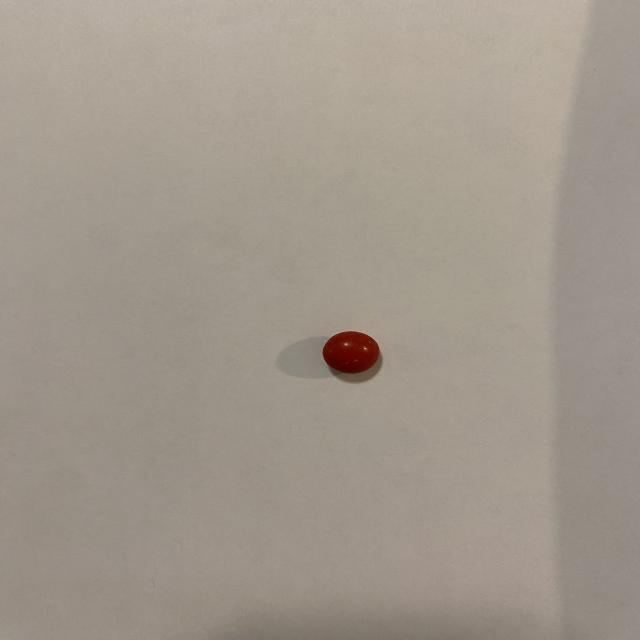smartie: (321, 331, 380, 374)
